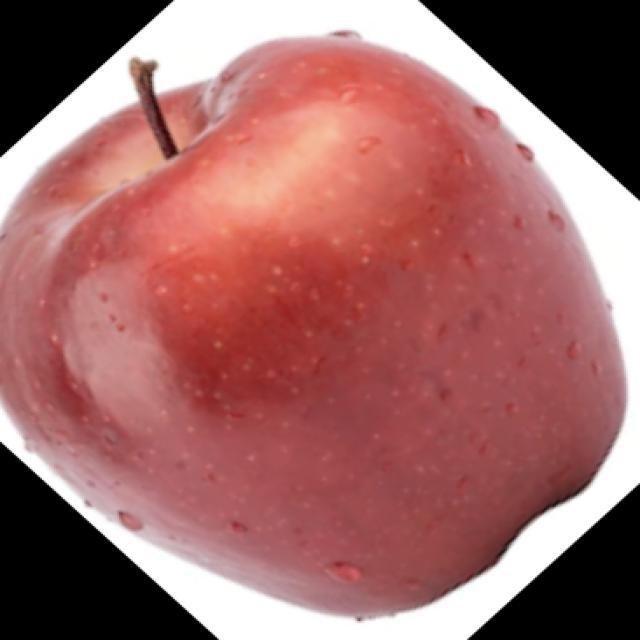Fresh Apple: (0, 34, 627, 616)
